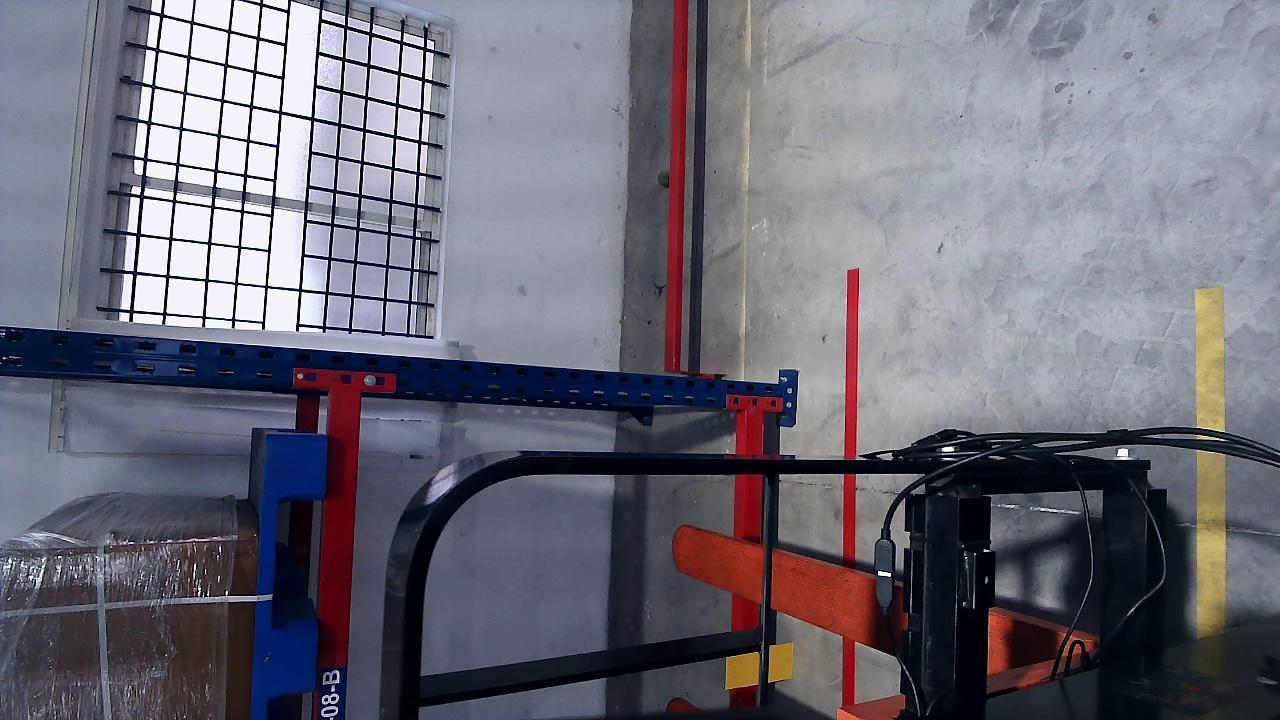red_line: (839, 268, 861, 702)
yellow_line: (1194, 286, 1225, 669)
